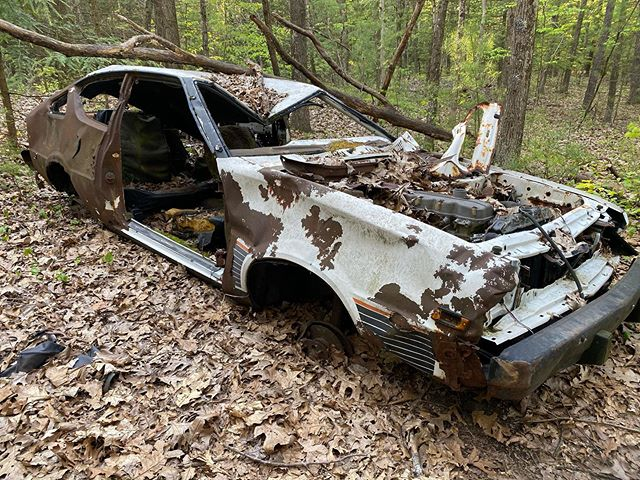car: (16, 58, 630, 418)
